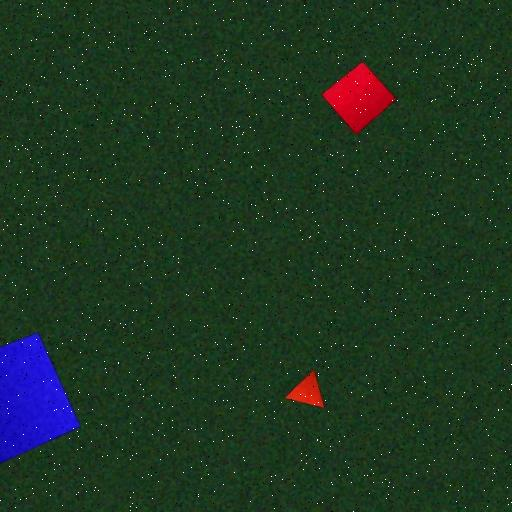BLUE_SQUARE: (0, 332, 82, 475)
RED_SQUARE: (320, 61, 398, 136)
